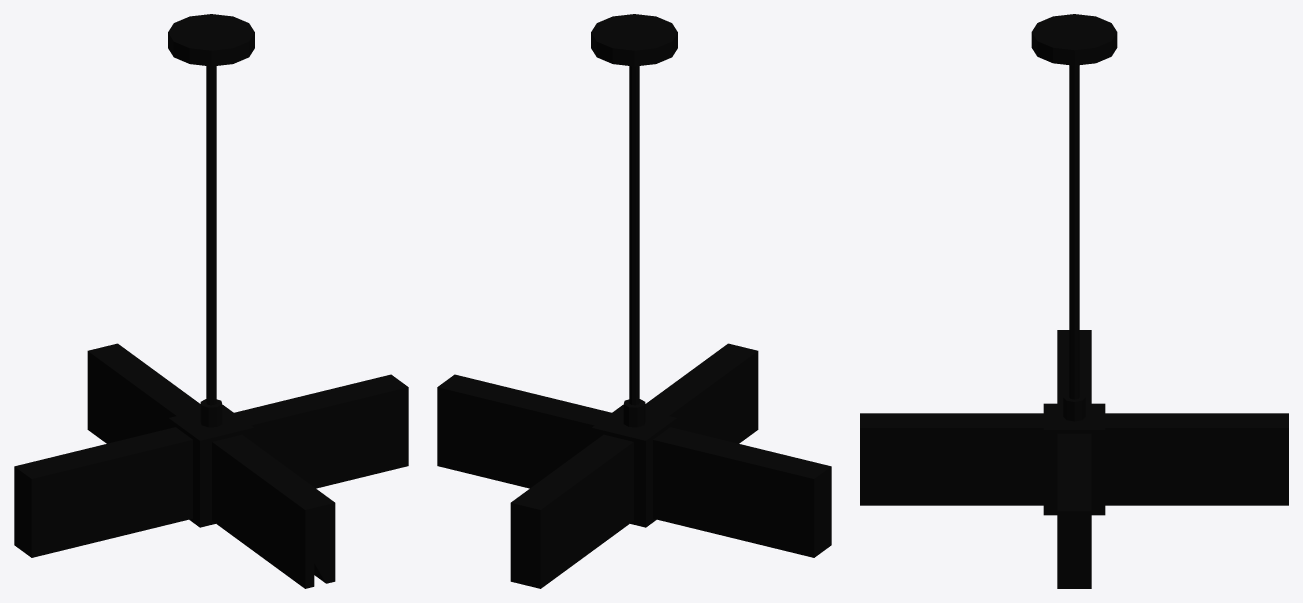
Rendered from SM_Build_Lichtschiene_Kreuz.fbx.
The picture shows the model from 3 angles, left to right: view 1: azimuth 30°, elevation 25°; view 2: azimuth 150°, elevation 25°; view 3: azimuth 270°, elevation 25°; orthographic projection.
Parts seen in each view (by area): view 1: Lichtschiene_Kreuz; view 2: Lichtschiene_Kreuz; view 3: Lichtschiene_Kreuz.
Boxes of the visible parts, <box> form: Lichtschiene_Kreuz: <box>14,14,408,588</box>; Lichtschiene_Kreuz: <box>437,14,831,588</box>; Lichtschiene_Kreuz: <box>860,14,1288,588</box>.
Bounding box in the file's own units: 0.5 × 0.605 × 0.5.
